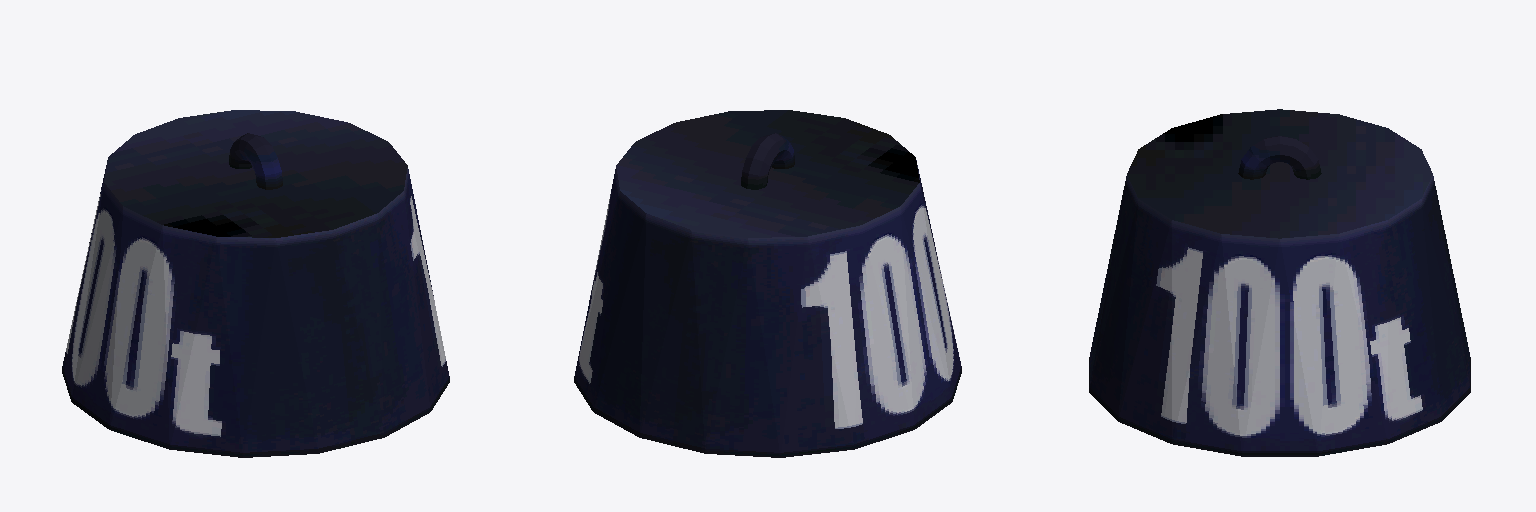
3 renders of one model, left to right at view 1: azimuth 30°, elevation 25°; view 2: azimuth 150°, elevation 25°; view 3: azimuth 270°, elevation 25°, orthographic.
Visible parts, largest first — view 1: polygon0, polygon1, polygon2; view 2: polygon0, polygon1, polygon2; view 3: polygon0, polygon1, polygon2.
Boxes of the visible parts, <box> form: polygon0: <box>62,160,449,457</box>; polygon1: <box>104,110,407,237</box>; polygon2: <box>229,133,282,189</box>; polygon0: <box>574,160,961,457</box>; polygon1: <box>616,110,919,237</box>; polygon2: <box>741,133,794,189</box>; polygon0: <box>1089,175,1470,456</box>; polygon1: <box>1127,109,1432,238</box>; polygon2: <box>1238,136,1321,179</box>.
Size of the model in its own units: 11.69 by 8.08 by 11.69.
3 materials, 3 textured.